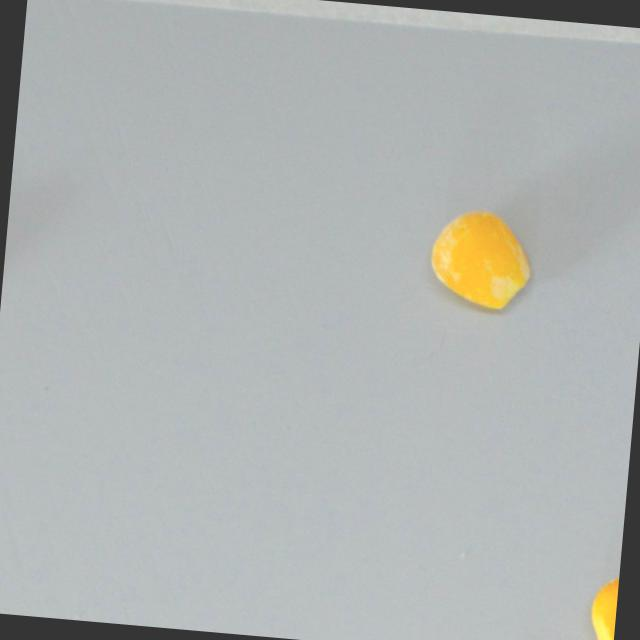no_canjicado: (587, 561, 620, 640)
pelicula: (423, 203, 537, 314)
